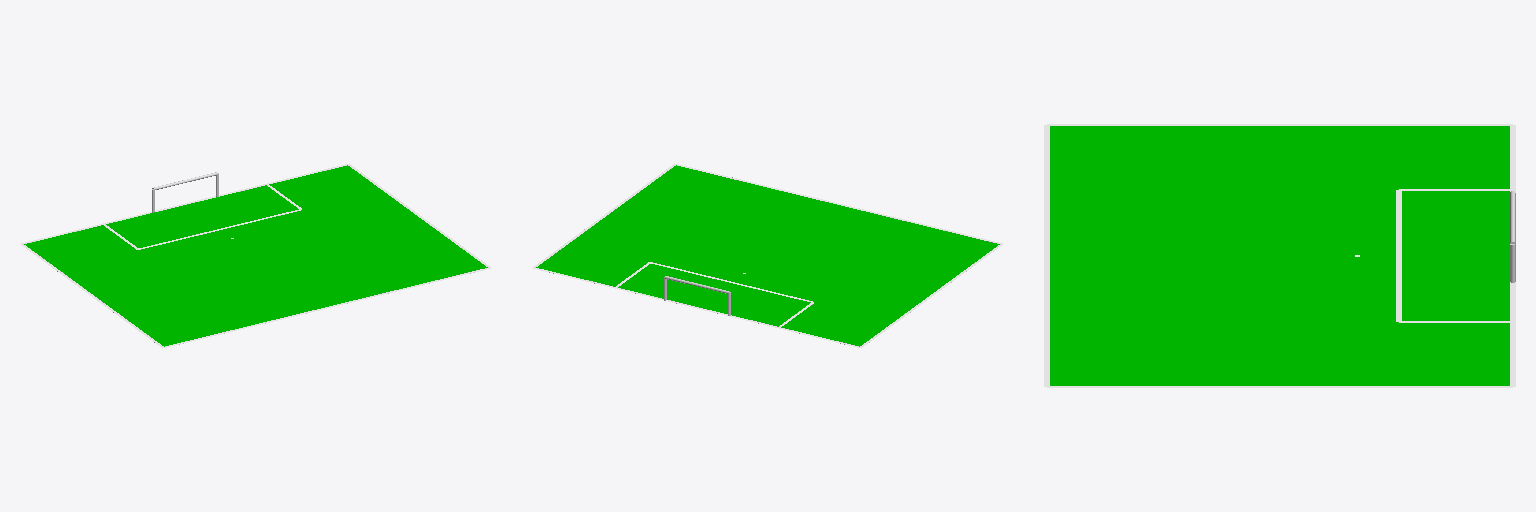
URDF robot description (soccer_field_half):
<?xml version="1.0"?>
<robot name="soccer_field_half">
  <!-- 优化版机器人足球半场 URDF 描述 -->
  <!-- 基于 RoboCup MSL 规格，半场尺寸: 9米 x 12米 -->
  <!-- 中心点设置为原点(0,0,0) -->
  
  <!-- 材质定义 -->
  <material name="green">
    <color rgba="0.0 0.8 0.0 1.0"/>
  </material>
  
  <material name="white">
    <color rgba="1.0 1.0 1.0 1.0"/>
  </material>
  
  <material name="goal_material">
    <color rgba="0.9 0.9 0.9 1.0"/>
  </material>
  
  <!-- 基础链接 - 场地中心在原点，地面表面在z=0 -->
  <link name="field_base">
    <visual>
      <origin xyz="0 0 -0.005" rpy="0 0 0"/>
      <geometry>
        <box size="12 9 0.01"/>
      </geometry>
      <material name="green"/>
    </visual>
    <collision>
      <origin xyz="0 0 -0.005" rpy="0 0 0"/>
      <geometry>
        <box size="12 9 0.01"/>
      </geometry>
    </collision>
    <inertial>
      <mass value="1000.0"/>
      <origin xyz="0 0 -0.005" rpy="0 0 0"/>
      <inertia ixx="10000.0" ixy="0.0" ixz="0.0" iyy="10000.0" iyz="0.0" izz="10000.0"/>
    </inertial>
  </link>

  <!-- 所有场地线条合并为一个link以减少渲染开销 -->
  <link name="field_lines">
    <!-- 中线 -->
    <visual>
      <origin xyz="0 -4.5 0.001" rpy="0 0 0"/>
      <geometry>
        <box size="12 0.1 0.001"/>
      </geometry>
      <material name="white"/>
    </visual>
    
    <!-- 左边线 -->
    <visual>
      <origin xyz="-6 0 0.001" rpy="0 0 0"/>
      <geometry>
        <box size="0.1 9 0.001"/>
      </geometry>
      <material name="white"/>
    </visual>
    
    <!-- 右边线 -->
    <visual>
      <origin xyz="6 0 0.001" rpy="0 0 0"/>
      <geometry>
        <box size="0.1 9 0.001"/>
      </geometry>
      <material name="white"/>
    </visual>
    
    <!-- 球门线 -->
    <visual>
      <origin xyz="0 4.5 0.001" rpy="0 0 0"/>
      <geometry>
        <box size="12 0.1 0.001"/>
      </geometry>
      <material name="white"/>
    </visual>
    
    <!-- 禁区前边线 -->
    <visual>
      <origin xyz="0 2.3 0.001" rpy="0 0 0"/>
      <geometry>
        <box size="6 0.1 0.001"/>
      </geometry>
      <material name="white"/>
    </visual>
    
    <!-- 禁区左边线 -->
    <visual>
      <origin xyz="-3 3.4 0.001" rpy="0 0 0"/>
      <geometry>
        <box size="0.1 2.2 0.001"/>
      </geometry>
      <material name="white"/>
    </visual>
    
    <!-- 禁区右边线 -->
    <visual>
      <origin xyz="3 3.4 0.001" rpy="0 0 0"/>
      <geometry>
        <box size="0.1 2.2 0.001"/>
      </geometry>
      <material name="white"/>
    </visual>
    
    <!-- 罚球点 -->
    <visual>
      <origin xyz="0 1.5 0.001" rpy="0 0 0"/>
      <geometry>
        <cylinder radius="0.05" length="0.001"/>
      </geometry>
      <material name="white"/>
    </visual>
  </link>

  <!-- 球门结构 -->
  <link name="goal_structure">
    <!-- 左门柱 -->
    <visual>
      <origin xyz="-1.175 4.5 0.4" rpy="0 0 0"/>
      <geometry>
        <cylinder radius="0.05" length="0.8"/>
      </geometry>
      <material name="goal_material"/>
    </visual>
    <collision>
      <origin xyz="-1.175 4.5 0.4" rpy="0 0 0"/>
      <geometry>
        <cylinder radius="0.05" length="0.8"/>
      </geometry>
    </collision>
    
    <!-- 右门柱 -->
    <visual>
      <origin xyz="1.175 4.5 0.4" rpy="0 0 0"/>
      <geometry>
        <cylinder radius="0.05" length="0.8"/>
      </geometry>
      <material name="goal_material"/>
    </visual>
    <collision>
      <origin xyz="1.175 4.5 0.4" rpy="0 0 0"/>
      <geometry>
        <cylinder radius="0.05" length="0.8"/>
      </geometry>
    </collision>
    
    <!-- 横梁 -->
    <visual>
      <origin xyz="0 4.5 0.8" rpy="0 1.5708 0"/>
      <geometry>
        <cylinder radius="0.05" length="2.35"/>
      </geometry>
      <material name="goal_material"/>
    </visual>
    <collision>
      <origin xyz="0 4.5 0.8" rpy="0 1.5708 0"/>
      <geometry>
        <cylinder radius="0.05" length="2.35"/>
      </geometry>
    </collision>
    
    <inertial>
      <mass value="50.0"/>
      <origin xyz="0 4.5 0.4" rpy="0 0 0"/>
      <inertia ixx="10.0" ixy="0.0" ixz="0.0" iyy="10.0" iyz="0.0" izz="10.0"/>
    </inertial>
  </link>

  <!-- 固定关节 -->
  <joint name="field_to_lines" type="fixed">
    <parent link="field_base"/>
    <child link="field_lines"/>
  </joint>

  <joint name="field_to_goal" type="fixed">
    <parent link="field_base"/>
    <child link="goal_structure"/>
  </joint>

</robot> 

--- Facts derived from the render (not from the file) ---
The picture shows the robot from 3 angles, left to right: view 1: azimuth 30°, elevation 25°; view 2: azimuth 150°, elevation 25°; view 3: azimuth 270°, elevation 25°; orthographic projection.
Model soccer_field_half with 3 links and 2 joints (2 fixed), rooted at field_base, posed all joints at 0.
Visible links, largest first — view 1: field_base, field_lines; view 2: field_base, field_lines; view 3: field_base, field_lines, goal_structure.
Boxes of the visible links, x1,y1,x2,y2 form: field_base: (24,165,487,346); field_lines: (21,164,490,347); field_base: (536,165,999,346); field_lines: (533,164,1002,347); field_base: (1050,126,1509,385); field_lines: (1044,124,1515,387); goal_structure: (1510,191,1515,282).
Size in the robot's own frame: 12.1 by 9.1 by 0.86 metres.
Geometry: primitives only (box / cylinder / sphere), no mesh files.
